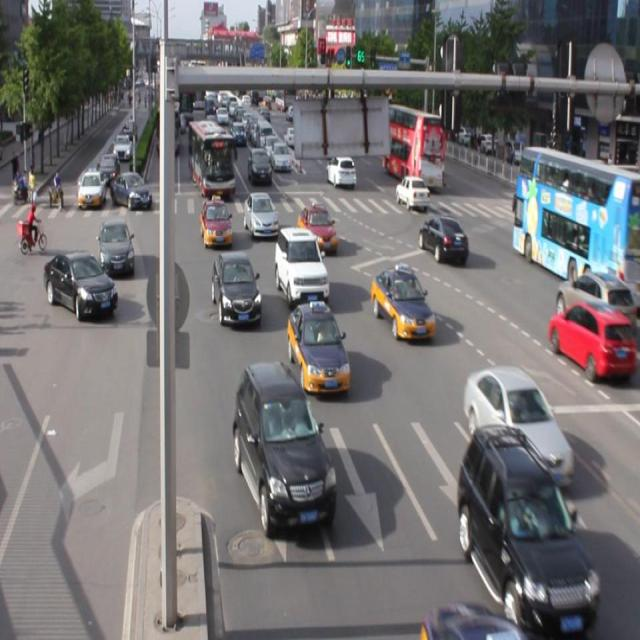car: (456, 423, 600, 631), (232, 358, 336, 534), (463, 365, 572, 486), (547, 298, 632, 382), (287, 300, 350, 395), (554, 270, 640, 338), (371, 266, 434, 342), (274, 226, 328, 304), (210, 249, 261, 329), (418, 213, 469, 264), (98, 218, 136, 276), (297, 204, 338, 254), (200, 197, 233, 247), (243, 192, 280, 236)
van: (512, 144, 640, 298)
